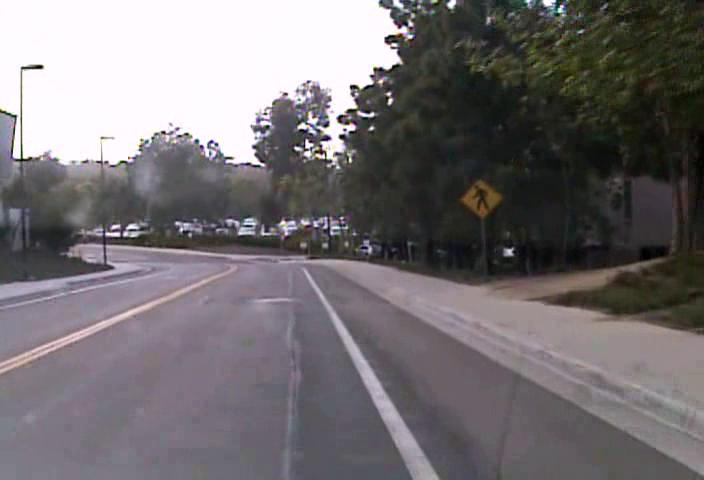pedestrianCrossing: (459, 176, 504, 219)
